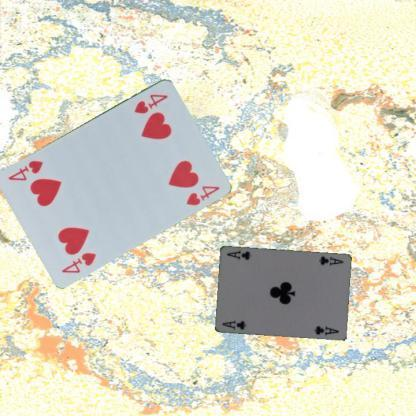4h: (131, 90, 169, 116), (59, 249, 98, 274)
Ac: (218, 317, 248, 332), (315, 254, 344, 268)
